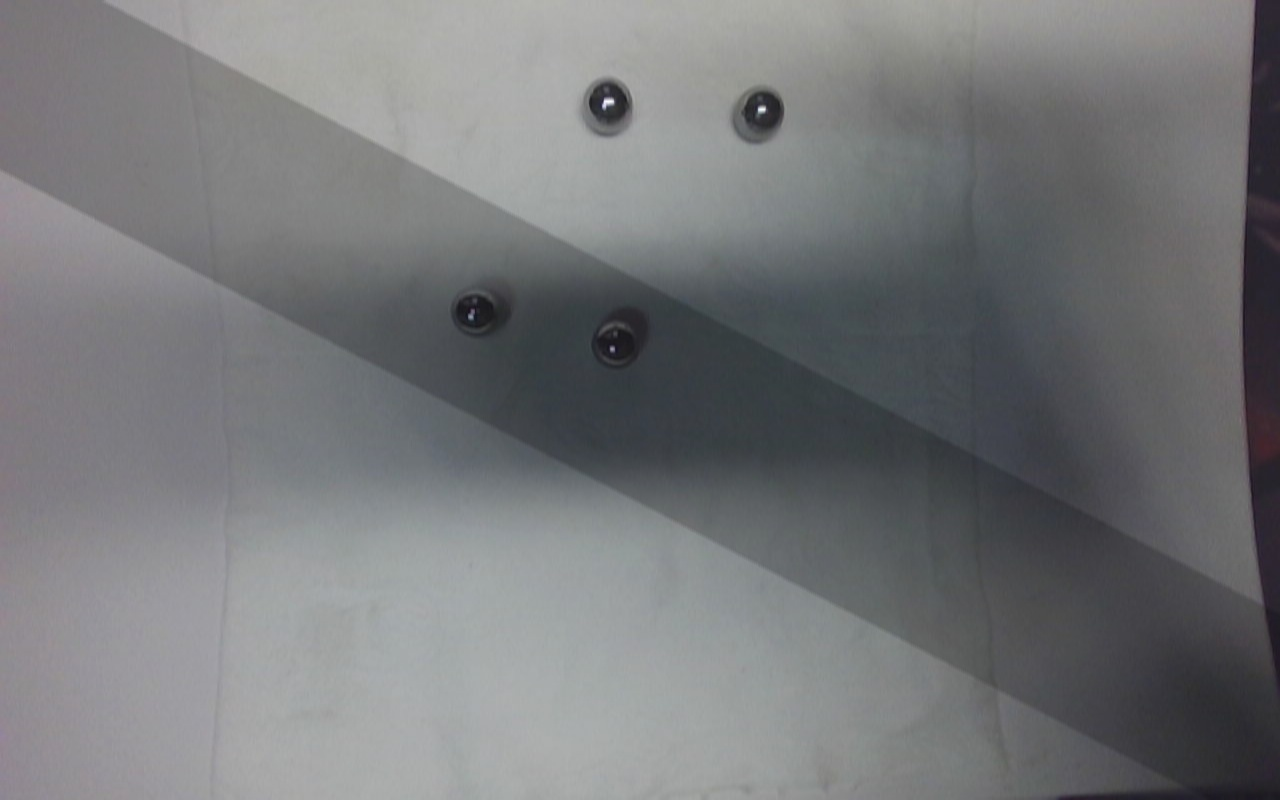ball: (579, 70, 640, 141), (729, 79, 789, 147), (587, 312, 643, 373), (451, 281, 502, 338)
